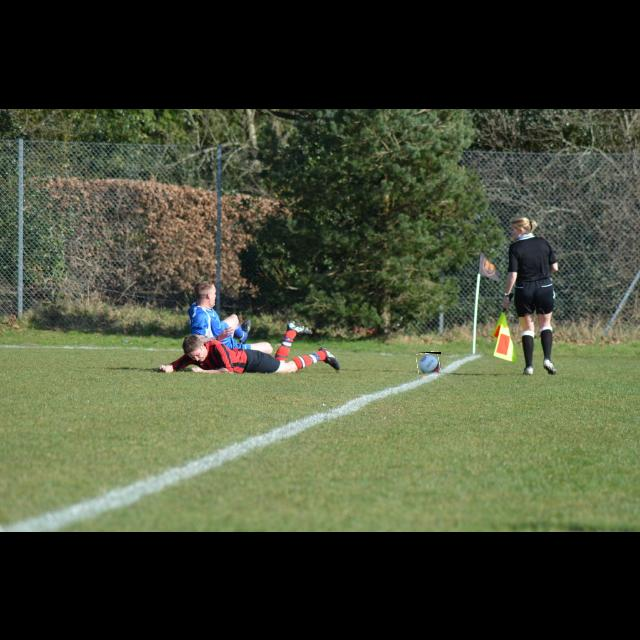Football: (417, 352, 441, 376)
